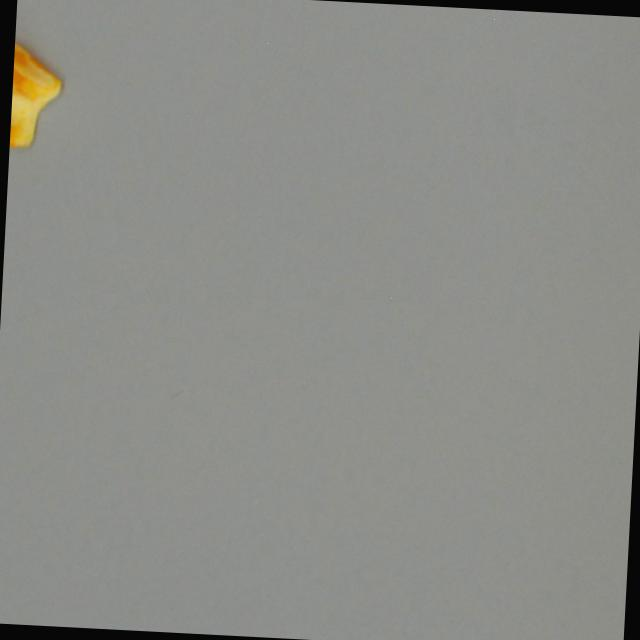dañado: (8, 36, 73, 159)
